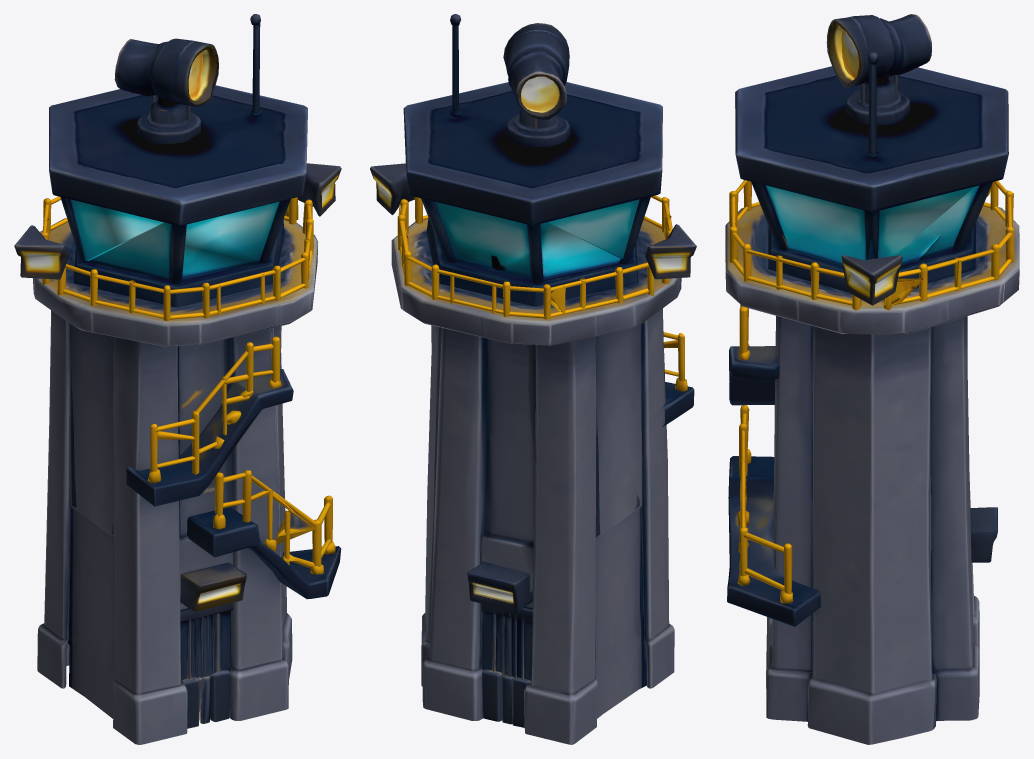
Rendered from guard-tower.glb.
The picture shows the model from 3 angles, left to right: view 1: azimuth 30°, elevation 25°; view 2: azimuth 150°, elevation 25°; view 3: azimuth 270°, elevation 25°; orthographic projection. The views are drawn at different scales.
Parts seen in each view (by area): view 1: geometry_0; view 2: geometry_0; view 3: geometry_0.
Part boxes in pixels (left/top/right/bottom): geometry_0: left=14, top=14, right=341, bottom=744; geometry_0: left=370, top=14, right=696, bottom=744; geometry_0: left=725, top=14, right=1019, bottom=744.
Size of the model in its own units: 0.5236 by 1 by 0.3959.
Materials: 1 (1 with a texture image).
